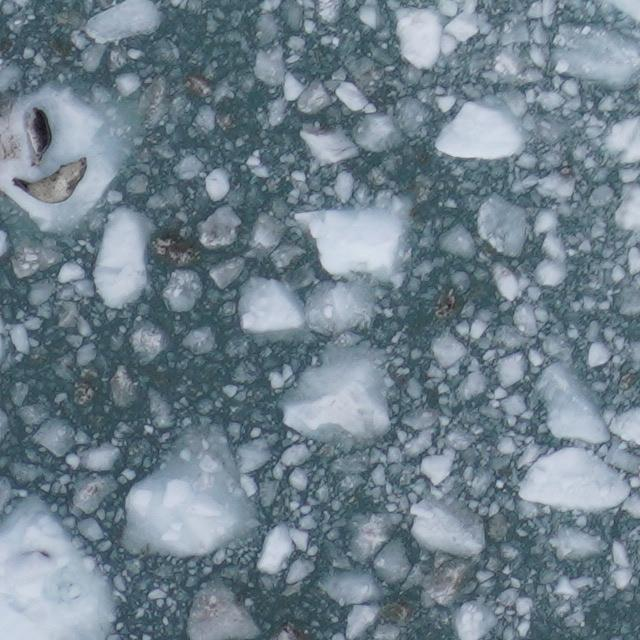seal: (9, 154, 92, 205), (21, 104, 56, 169)
